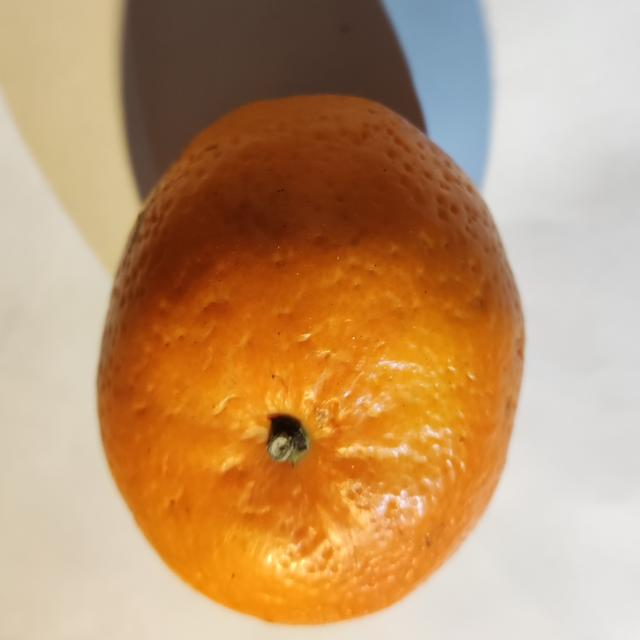orange: (98, 97, 523, 623)
